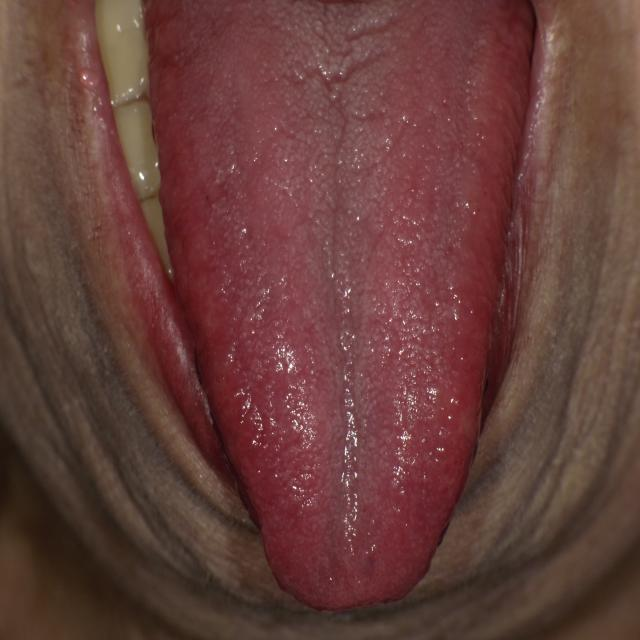baitaishe: (143, 1, 535, 612)
hongshe: (143, 1, 535, 612)
liewenshe: (293, 2, 384, 304)
shoushe: (143, 1, 535, 612)
